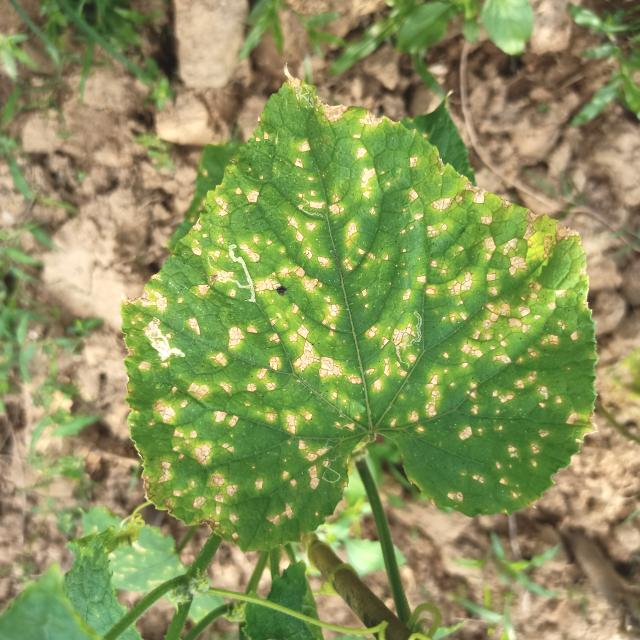disease_cucumber: (136, 124, 583, 527)
